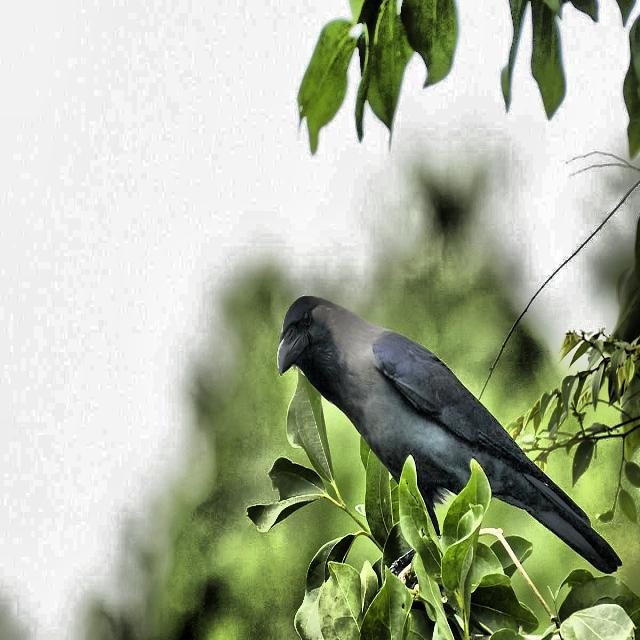crow: (273, 282, 623, 616)
